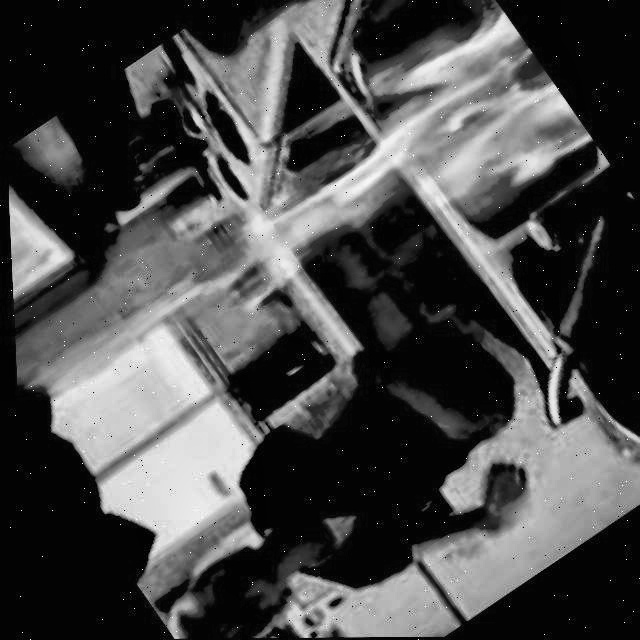Fire: (175, 3, 596, 347), (16, 268, 208, 413)
